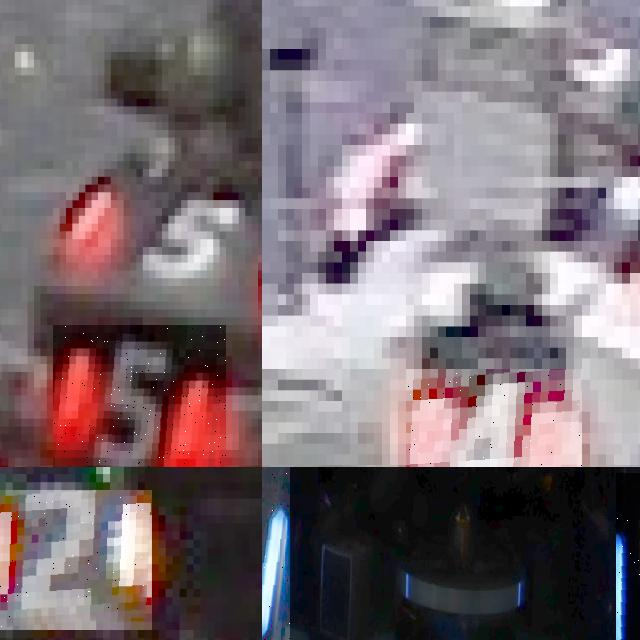Bs: (262, 467, 289, 640)
R2: (0, 490, 152, 629)
R4: (406, 369, 582, 467)
R5: (53, 325, 226, 467)
